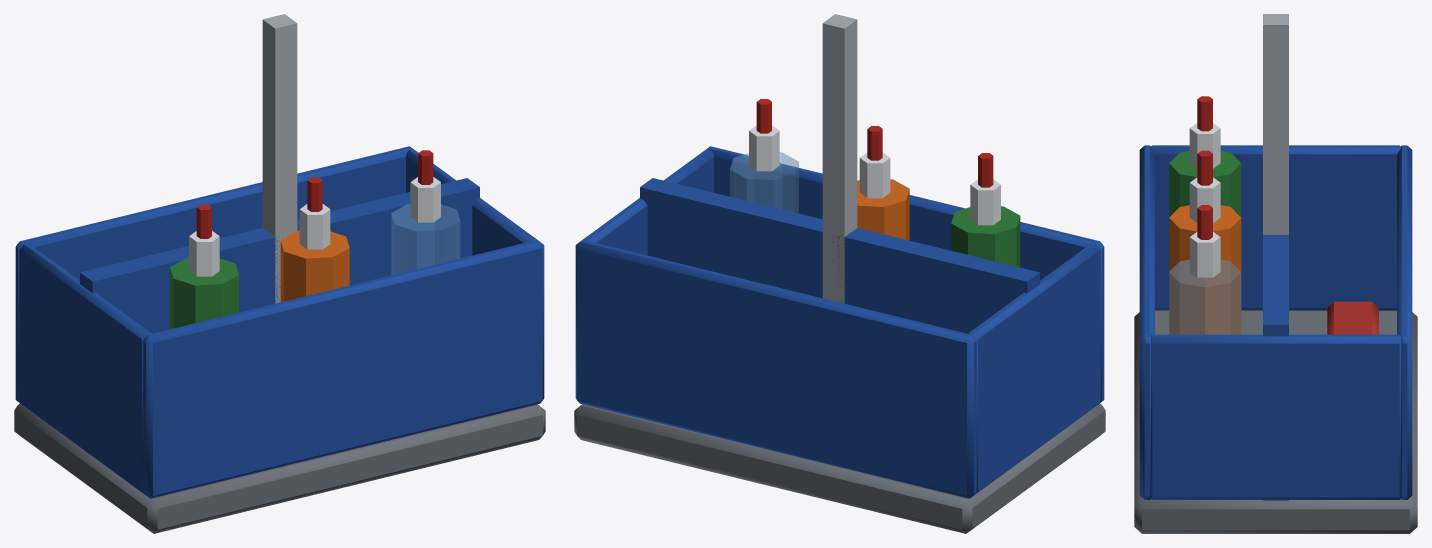
File: toolbox_cleaning_caddy.glb
3 views of the same model, side by side, from view 1: azimuth 30°, elevation 25°; view 2: azimuth 150°, elevation 25°; view 3: azimuth 270°, elevation 25° (orthographic).
Visible parts, largest first — view 1: toolbox_cleaning_caddy; view 2: toolbox_cleaning_caddy; view 3: toolbox_cleaning_caddy.
Boxes of the visible parts, x1,y1,x2,y2 form: toolbox_cleaning_caddy: (14, 14, 545, 533); toolbox_cleaning_caddy: (574, 14, 1105, 533); toolbox_cleaning_caddy: (1134, 14, 1417, 533).
Bounding box in the file's own units: 0.36 × 0.36 × 0.22.
